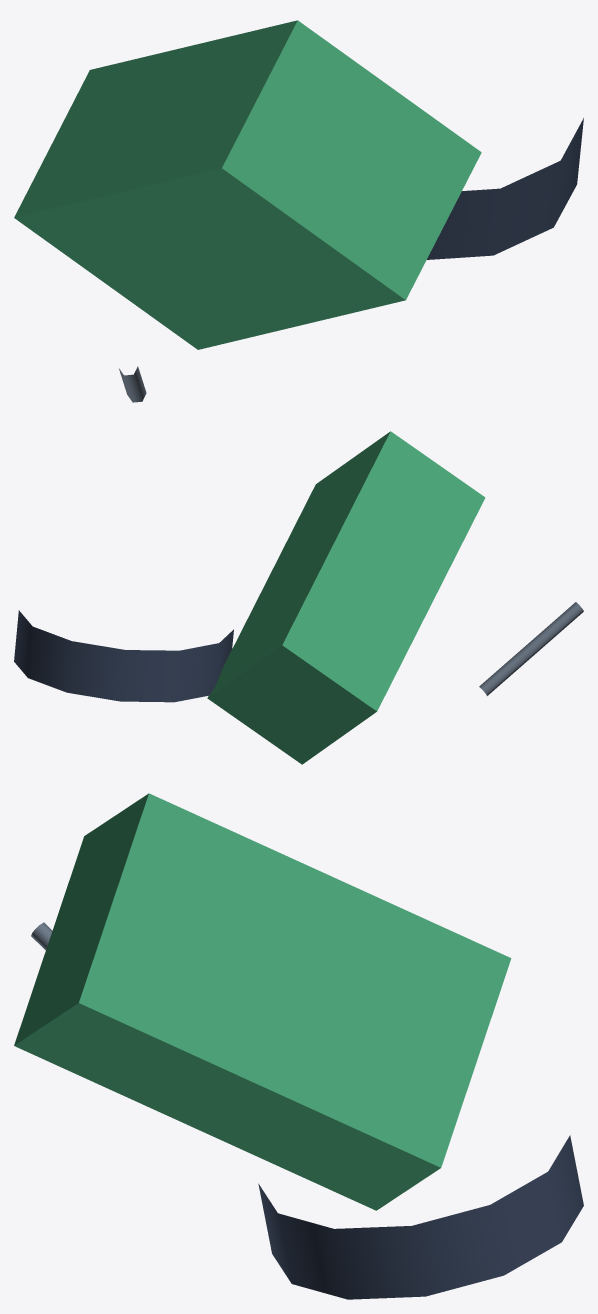
Rendered from tractor-wreck.glb.
3 renders of one model, top to bottom at view 1: azimuth 30°, elevation 25°; view 2: azimuth 150°, elevation 25°; view 3: azimuth 270°, elevation 25°, orthographic. The views are drawn at different scales.
Parts seen in each view (by area): view 1: Root; view 2: Root; view 3: Root.
Part boxes in pixels (x1,y1,x2,y2): Root: (14,20,583,402); Root: (14,431,583,764); Root: (14,793,583,1299).
Bounding box in the file's own units: 4.53 × 2.85 × 3.6.
